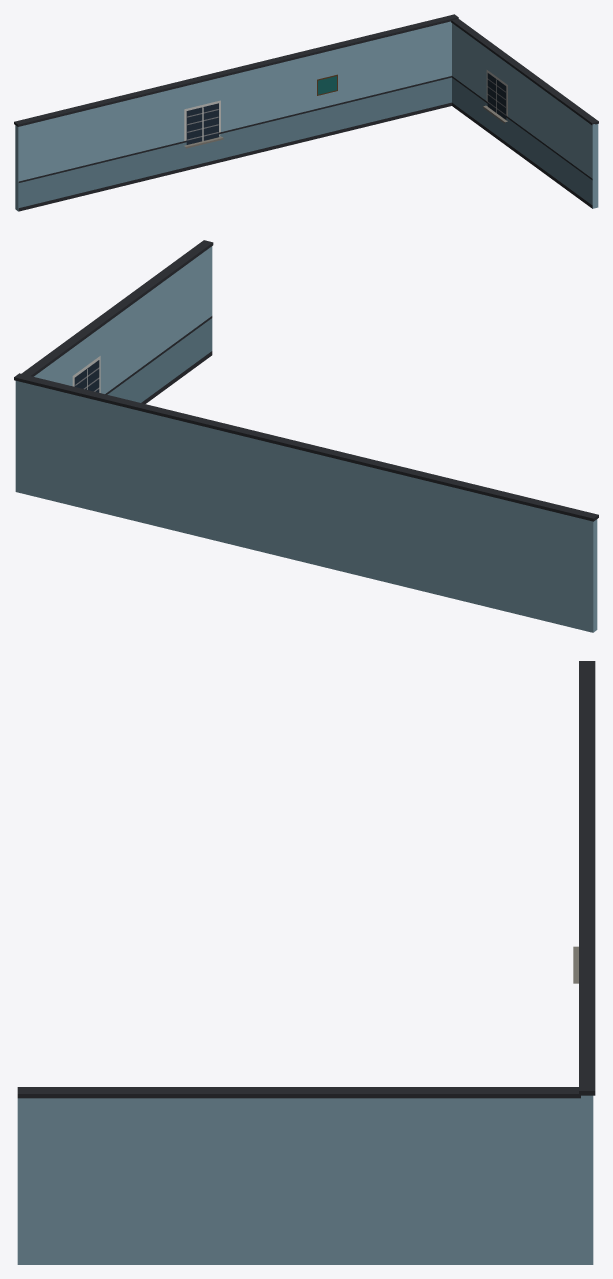
The model's file is bld_room_compound.7f6838e58da2.glb.
The picture shows the model from 3 angles, top to bottom: view 1: azimuth 30°, elevation 25°; view 2: azimuth 150°, elevation 25°; view 3: azimuth 270°, elevation 25°; orthographic projection. The views are drawn at different scales.
Visible parts, largest first — view 1: body; view 2: body; view 3: body.
Boxes of the visible parts, x1,y1,x2,y2 form: body: (14,14,598,211); body: (14,240,598,632); body: (17,661,595,1264).
Size of the model in its own units: 16.26 by 3.08 by 9.23.
